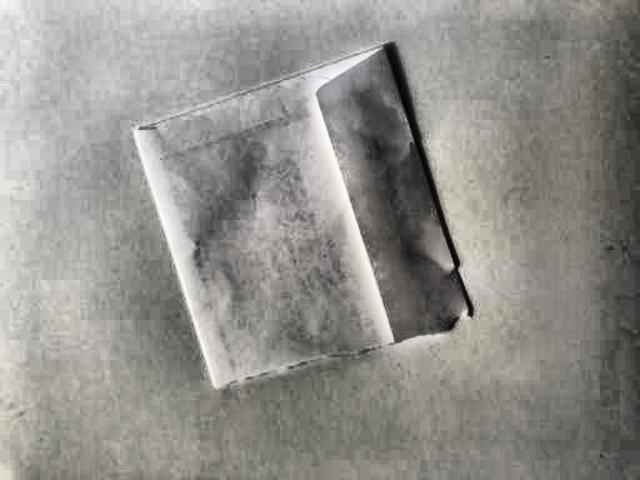Paper: (133, 42, 466, 390)
